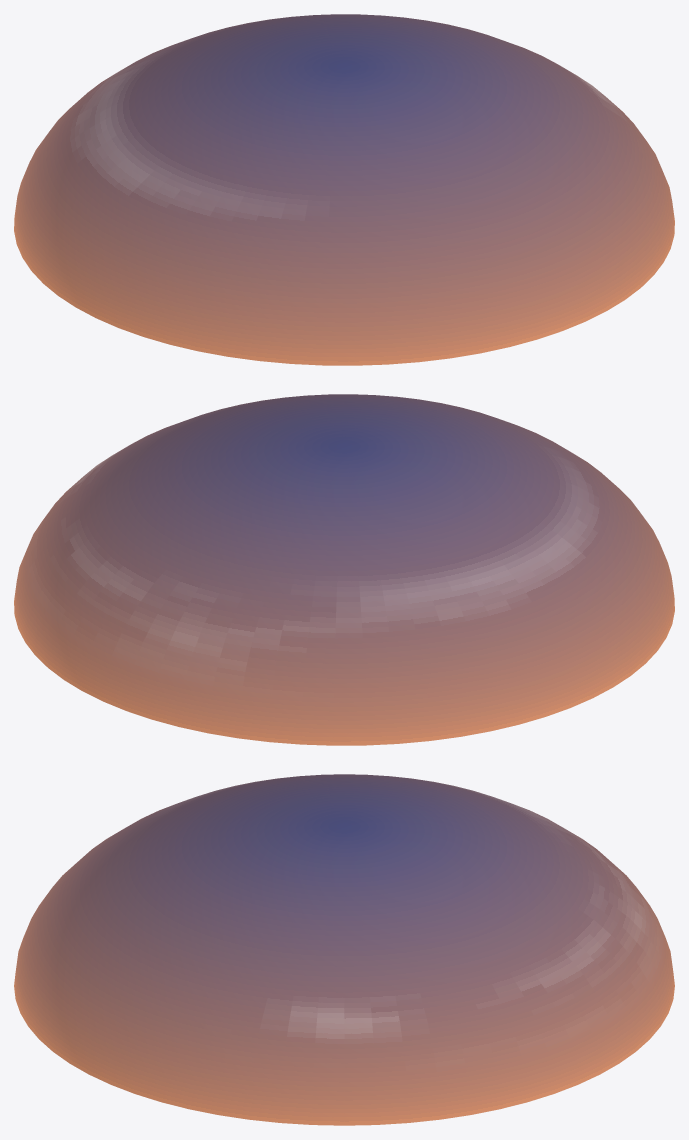
The model's file is env-sky-s12-parking-smart-x.glb.
The picture shows the model from 3 angles, top to bottom: view 1: azimuth 30°, elevation 25°; view 2: azimuth 150°, elevation 25°; view 3: azimuth 270°, elevation 25°; orthographic projection.
Visible parts, largest first — view 1: Sky; view 2: Sky; view 3: Sky.
Boxes of the visible parts, x1,y1,x2,y2 form: Sky: (14, 14, 674, 365); Sky: (14, 394, 674, 745); Sky: (14, 774, 674, 1125).
Bounding box in the file's own units: 1200 × 320 × 1200.
2 materials, 1 textured.
